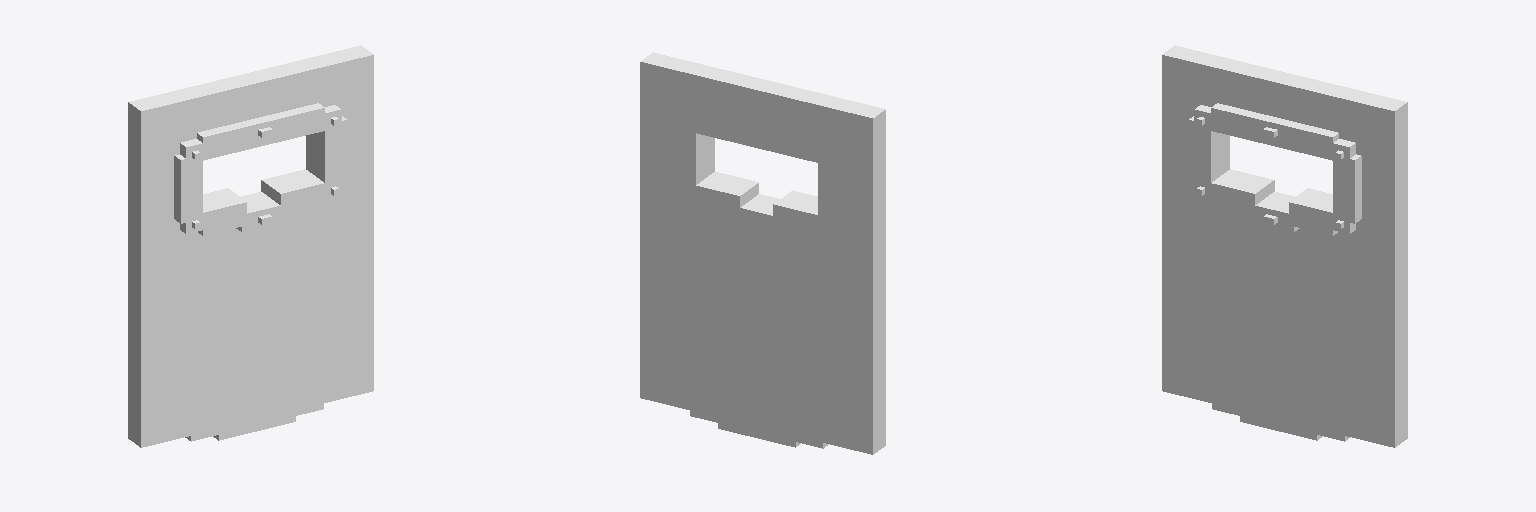
The model's file is Shield.obj.
The picture shows the model from 3 angles: view 1: azimuth 30°, elevation 25°; view 2: azimuth 150°, elevation 25°; view 3: azimuth 330°, elevation 25°; orthographic projection.
Parts seen in each view (by area): view 1: object 1; view 2: object 1; view 3: object 1.
Part boxes in pixels (bbox=[...]): object 1: bbox=[128, 45, 373, 447]; object 1: bbox=[640, 52, 885, 454]; object 1: bbox=[1162, 45, 1407, 447].
Size of the model in its own units: 4.2 by 6 by 0.7.